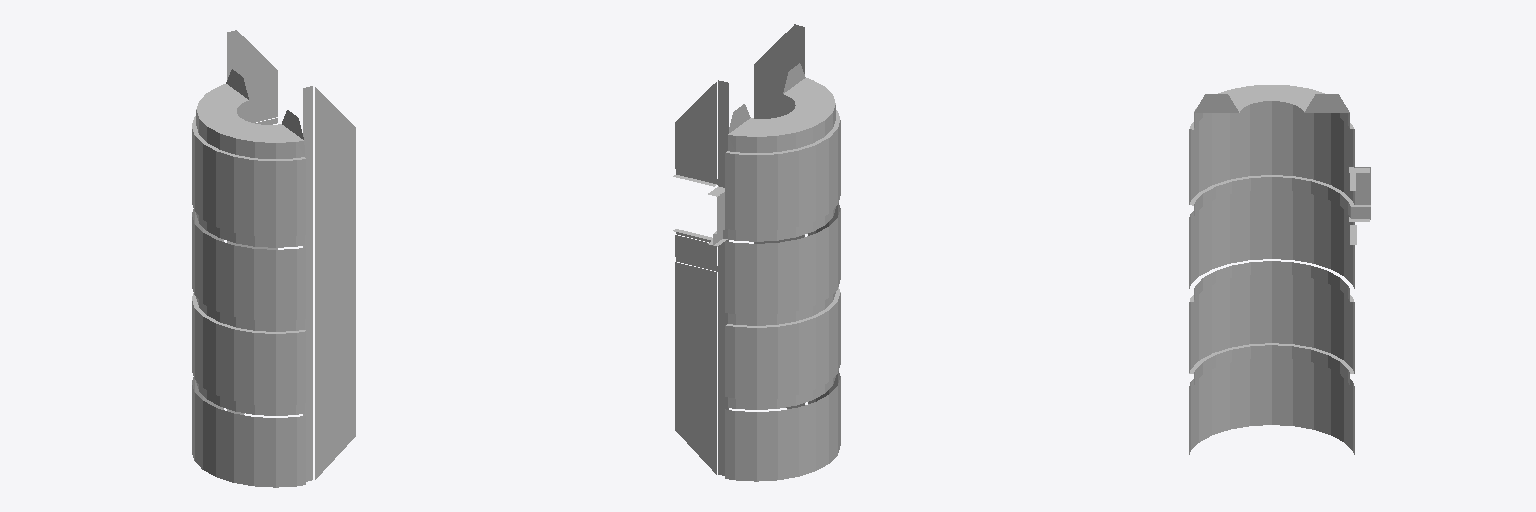
Rendered from stg300_Motcatoptric_07.obj.
The picture shows the model from 3 angles: view 1: azimuth 30°, elevation 25°; view 2: azimuth 150°, elevation 25°; view 3: azimuth 270°, elevation 25°; orthographic projection.
Visible parts, largest first — view 1: polygon0; view 2: polygon0; view 3: polygon0.
Part boxes in pixels (left/top/right/bottom): polygon0: left=192, top=30, right=355, bottom=487; polygon0: left=673, top=24, right=840, bottom=481; polygon0: left=1189, top=85, right=1370, bottom=454.
Bounding box in the file's own units: 110 × 361 × 150.